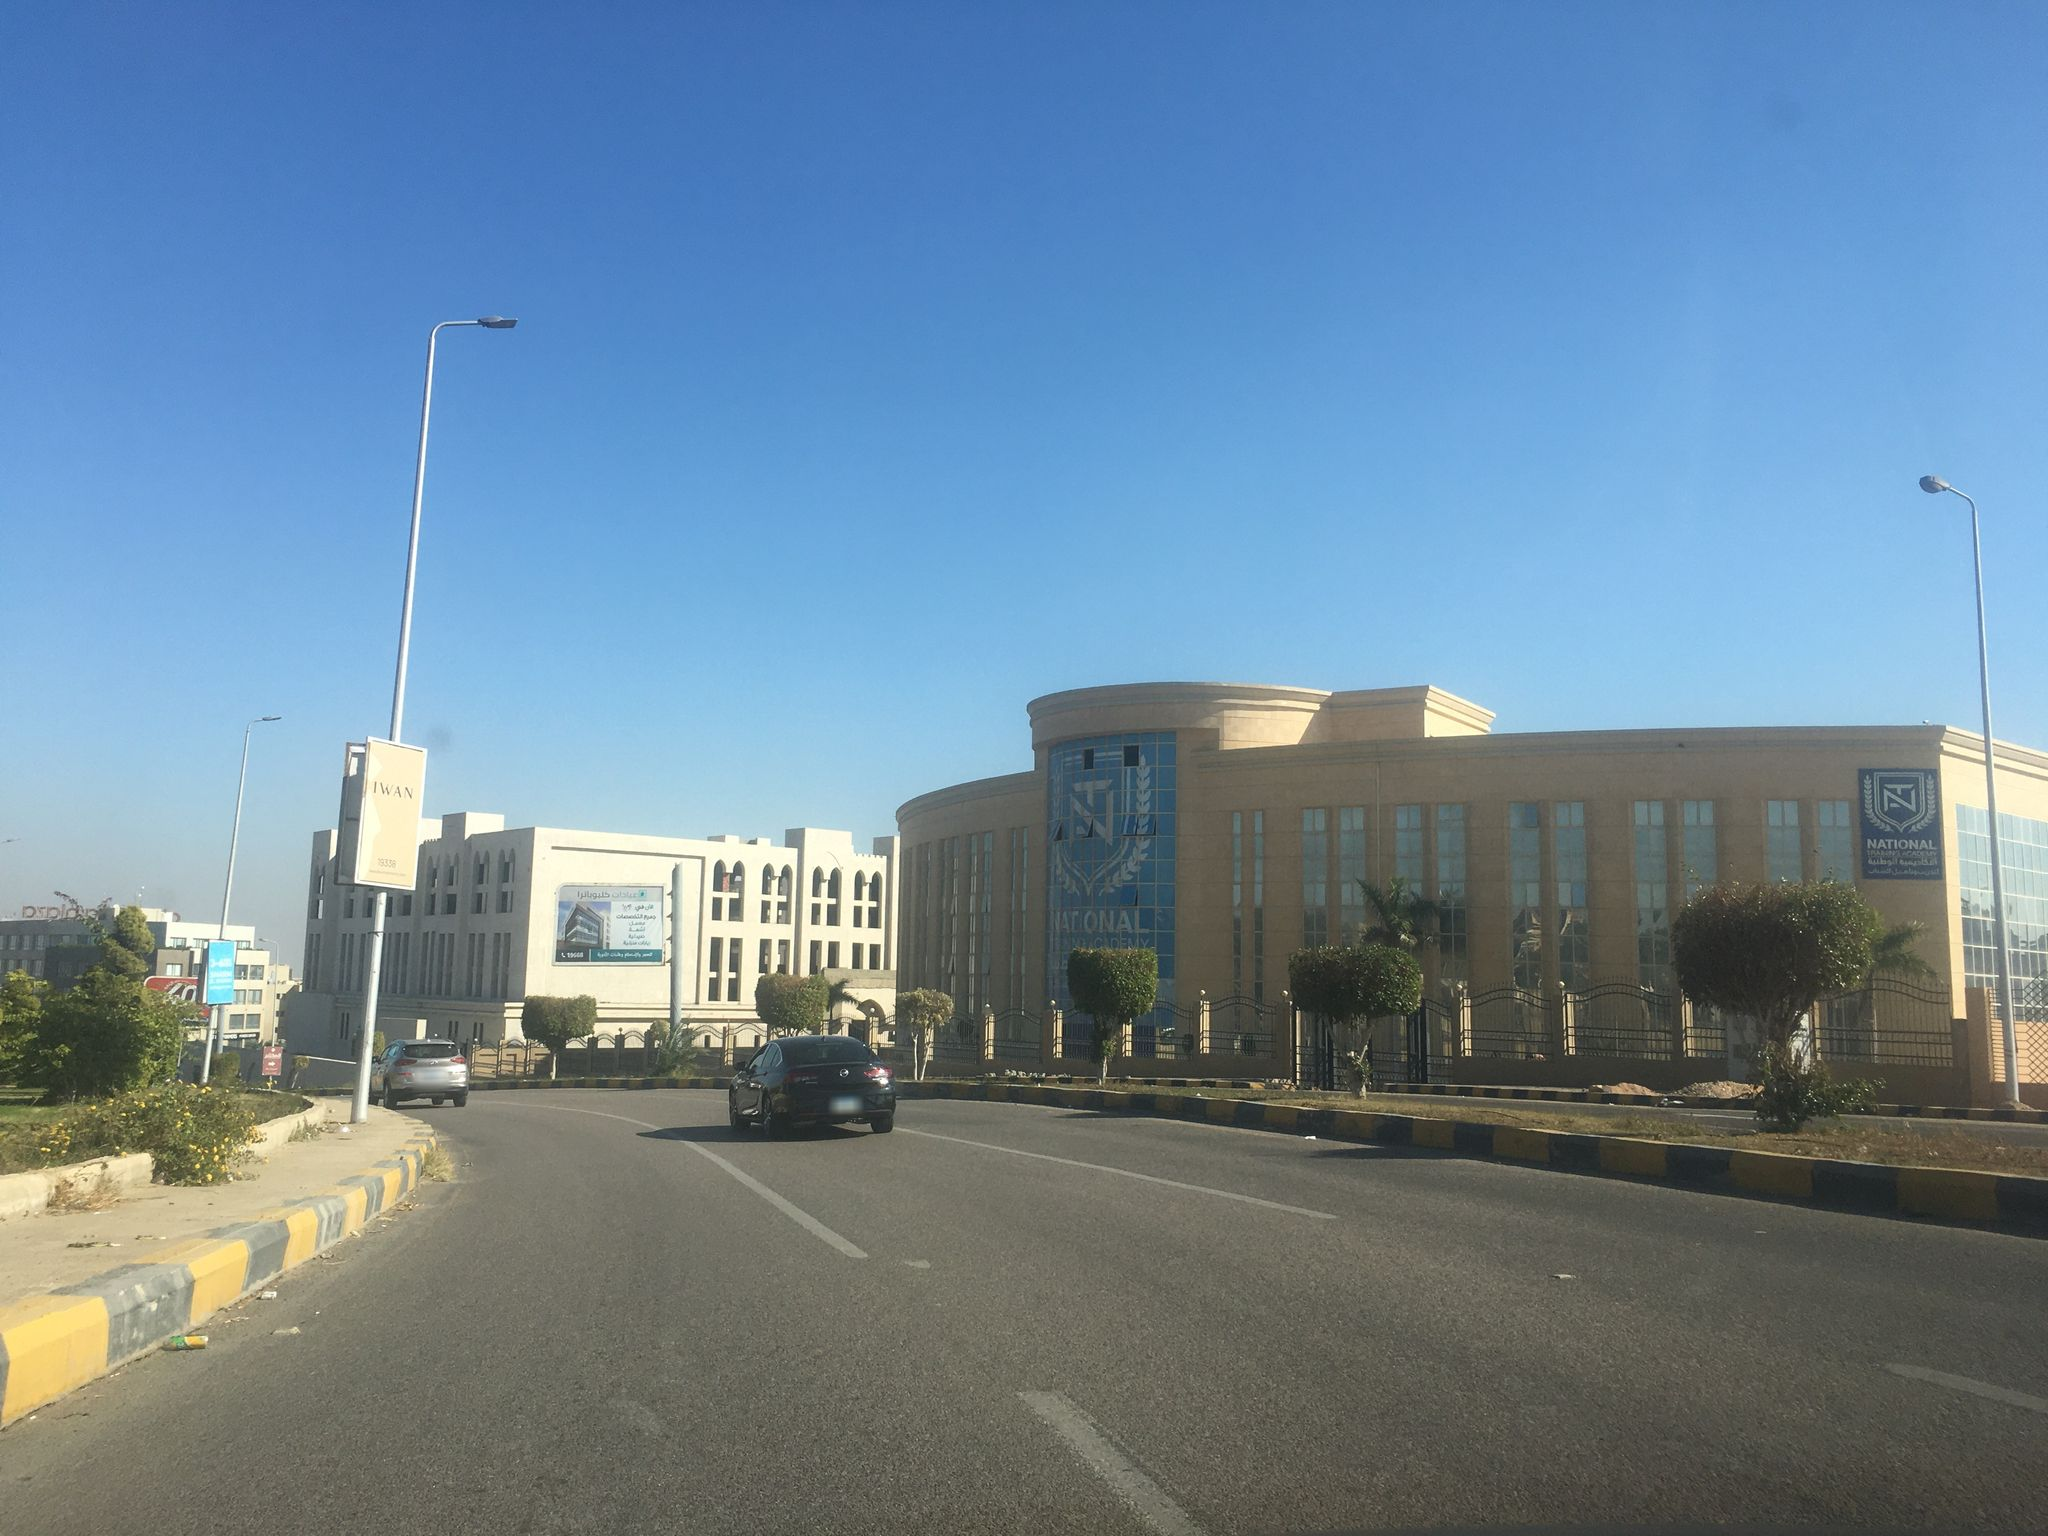car: (727, 1034, 898, 1137), (364, 1037, 469, 1108)
